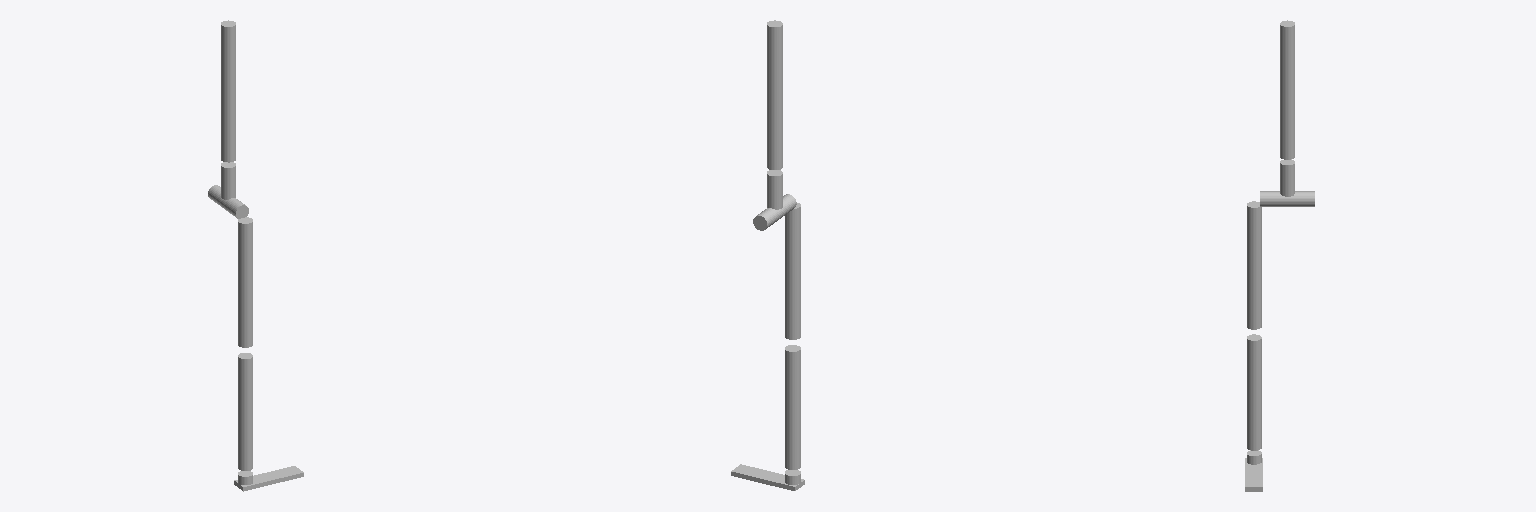
The robot description file, URDF, robot "hatlas":
<?xml version="1.0" ?>
<robot xmlns="http://drake.mit.edu"
 xmlns:xsi="http://www.w3.org/2001/XMLSchema-instance"
 xsi:schemaLocation="http://drake.mit.edu ../../../doc/drakeURDF.xsd" name="hatlas">
  <material name="LightGrey">
    <color rgba="0.8 0.8 0.8 1.0"/>
  </material>
  <material name="Grey">
    <color rgba="0.6 0.6 0.6 1.0"/>
  </material>
  <material name="DarkGrey">
    <color rgba="0.3 0.3 0.3 1.0"/>
  </material>
  <material name="Black">
    <color rgba="0.1 0.1 0.1 1.0"/>
  </material>
  <link name="base_link">
    <inertial>
      <origin rpy="0 0 0" xyz="0 0 0"/>
      <mass value="0.01"/>
      <inertia ixx="0.0001" ixy="0.0" ixz="0.0" iyy="0.0001" iyz="0.0" izz="0.0001"/>
    </inertial>
  </link>
  <link name="Back">
    <inertial>
      <mass value="0.98"/>
      <inertia ixx="0.0142307887763" ixy="0.0" ixz="0.0" iyy="0.0142307887763" iyz="0.0" izz="0.0232537942048"/>
    </inertial>
  </link>
  <link name="Pelvis-link1">
    <inertial>
      <mass value="2.85"/>
      <inertia ixx="0.0167937478046" ixy="0.0" ixz="0.0" iyy="0.0130953182366" iyz="0.0" izz="0.0188435137939"/>
    </inertial>
    <visual>
      <origin rpy="0 0 0" xyz="0 0 -0.076245974"/>
      <geometry>
        <cylinder length="0.112491948" radius="0.025"/>
      </geometry>
      <material name="LightGrey"/>
    </visual>
    <collision>
      <origin rpy="0 0 0" xyz="0 0 -0.076245974"/>
      <geometry>
        <cylinder length="0.152491948" radius="0.025"/>
      </geometry>
    </collision>
  </link>
  <link name="Pelvis-link2">
    <inertial>
      <mass value="2.85"/>
      <inertia ixx="0.0167937478046" ixy="0.0" ixz="0.0" iyy="0.0188435137939" iyz="0.0" izz="0.0130953182366"/>
    </inertial>
    <visual>
      <origin rpy="1.57079632679 0 0" xyz="0 0 0"/>
      <geometry>
        <cylinder length="0.17784564" radius="0.025"/>
      </geometry>
      <material name="LightGrey"/>
    </visual>
    <collision>
      <origin rpy="1.57079632679 0 0" xyz="0 0 0"/>
      <geometry>
        <cylinder length="0.21784564" radius="0.025"/>
      </geometry>
    </collision>
  </link>
  <link name="BackYaw_link">
    <inertial>
      <mass value="0.98"/>
      <inertia ixx="0.0168406694011" ixy="0.0" ixz="0.0" iyy="0.0168406694011" iyz="0.0" izz="0.0284735554544"/>
    </inertial>
  </link>
  <link name="BackPitch_link">
    <inertial>
      <mass value="0.98"/>
      <inertia ixx="0.0391167022824" ixy="0.0" ixz="0.0" iyy="0.0213060832327" iyz="0.0" izz="0.0230184023975"/>
    </inertial>
  </link>
  <link name="BackRoll_link">
    <inertial>
      <mass value="0.98"/>
      <inertia ixx="0.0391167022824" ixy="0.0" ixz="0.0" iyy="0.0213060832327" iyz="0.0" izz="0.0230184023975"/>
    </inertial>
  </link>
  <link name="Torso">
    <inertial>
      <mass value="15.347"/>
      <inertia ixx="0.612575540743" ixy="0.0" ixz="0.0" iyy="0.333657611605" iyz="0.0" izz="0.360472879178"/>
    </inertial>
    <visual>
      <origin rpy="0 0 0" xyz="0.0 0.0 0.23927308"/>
      <geometry>
        <cylinder length="0.47854616" radius="0.025"/>
      </geometry>
      <material name="LightGrey"/>
    </visual>
    <collision>
      <origin rpy="0 0 0" xyz="0.0 0.0 0.23927308"/>
      <geometry>
        <box size=" 0.178562 0.4999736 0.47854616"/>
      </geometry>
    </collision>
  </link>
  <link name="RHipYaw_link">
    <inertial>
      <mass value="3.38522222222"/>
      <inertia ixx="0.0670316913245" ixy="0.0" ixz="0.0" iyy="0.0670316913245" iyz="0.0" izz="0.00485710822221"/>
    </inertial>
  </link>
  <link name="RHipPitch_link">
    <inertial>
      <mass value="3.38522222222"/>
      <inertia ixx="0.0670316913245" ixy="0.0" ixz="0.0" iyy="0.0670316913245" iyz="0.0" izz="0.00485710822221"/>
    </inertial>
  </link>
  <link name="RHipRoll_link">
    <inertial>
      <mass value="3.38522222222"/>
      <inertia ixx="0.0670316913245" ixy="0.0" ixz="0.0" iyy="0.0670316913245" iyz="0.0" izz="0.00485710822221"/>
    </inertial>
    <visual>
      <origin rpy="0 0 0" xyz="0.0 0.0 -0.23927308"/>
      <geometry>
        <cylinder length="0.43854616" radius="0.025"/>
      </geometry>
      <material name="LightGrey"/>
    </visual>
    <collision>
      <origin rpy="0 0 0" xyz="0.0 0.0 -0.23927308"/>
      <geometry>
        <cylinder length="0.47854616" radius="0.025"/>
      </geometry>
    </collision>
  </link>
  <link name="RKneePitch_link">
    <inertial>
      <mass value="5.07783333333"/>
      <inertia ixx="0.0839686075882" ixy="0.0" ixz="0.0" iyy="0.0839686075882" iyz="0.0" izz="0.00728566233332"/>
    </inertial>
    <visual>
      <origin rpy="0 0 0" xyz="0 0 -0.21784564"/>
      <geometry>
        <cylinder length="0.39569128" radius="0.025"/>
      </geometry>
      <material name="LightGrey"/>
    </visual>
    <collision>
      <origin rpy="0 0 0" xyz="0 0 -0.21784564"/>
      <geometry>
        <cylinder length="0.43569128" radius="0.025"/>
      </geometry>
    </collision>
  </link>
  <link name="RAnklePitch_link">
    <inertial>
      <mass value="1.0"/>
      <inertia ixx="0.000313145101483" ixy="0.0" ixz="0.0" iyy="0.000313145101483" iyz="0.0" izz="0.0003125"/>
    </inertial>
    <visual>
      <origin rpy="0 0 0" xyz="0 0 -0.021695283"/>
      <geometry>
        <cylinder length="0.043390566" radius="0.025"/>
      </geometry>
      <material name="LightGrey"/>
    </visual>
    <collision>
      <origin rpy="0 0 0" xyz="0 0 -0.021695283"/>
      <geometry>
        <cylinder length="0.043390566" radius="0.025"/>
      </geometry>
    </collision>
  </link>
  <link name="RAnkle">
    <inertial>
      <mass value="1.0"/>
      <inertia ixx="0.000313145101483" ixy="0.0" ixz="0.0" iyy="0.000313145101483" iyz="0.0" izz="0.0003125"/>
    </inertial>
  </link>
  <link name="RFoot">
    <inertial>
      <mass value="2.0"/>
      <inertia ixx="0.0006375" ixy="0.0" ixz="0.0" iyy="0.00509955043915" iyz="0.0" izz="0.00566205043915"/>
    </inertial>
    <visual>
      <origin rpy="0 0 0" xyz="0.087138256 0 0.0075"/>
      <geometry>
        <box size="0.224276512 0.06 0.015"/>
      </geometry>
      <material name="LightGrey"/>
    </visual>
    <collision>
      <origin rpy="0 0 0" xyz="0.087138256 0 0.0075"/>
      <geometry>
        <box size="0.224276512 0.06 0.015"/>
      </geometry>
    </collision>
  </link>
  <joint name="base_joint" type="fixed">
    <child link="Back"/>
    <parent link="base_link"/>
    <origin rpy="0 0 0" xyz="0 0 0"/>
  </joint>
  <joint name="BackYaw" type="revolute">
    <parent link="Back"/>
    <child link="BackYaw_link"/>
    <origin rpy="0 0 0" xyz="0 0 0.0"/>
    <axis xyz="0 0 1"/>
    <limit effort="110" lower="-0.78539816295" upper="0.78539816295" velocity="3"/>
    <dynamics damping="1" friction="10"/>
  </joint>
  <transmission name="BackYaw_trans" type="SimpleTransmission">
    <actuator name="BackYawTorque"/>
    <joint name="BackYaw"/>
    <mechanicalReduction>1</mechanicalReduction>
  </transmission>
  <joint name="BackPitch" type="revolute">
    <parent link="BackYaw_link"/>
    <child link="BackPitch_link"/>
    <origin rpy="0 0 0" xyz="0 0 0"/>
    <axis xyz="0 1 0"/>
    <limit effort="180" lower="-0." upper="0.43633231275" velocity="3"/>
    <dynamics damping="1" friction="10"/>
  </joint>
  <transmission name="BackPitch_trans" type="SimpleTransmission">
    <actuator name="BackPitchTorque"/>
    <joint name="BackPitch"/>
    <mechanicalReduction>1</mechanicalReduction>
  </transmission>
  <joint name="BackRoll" type="revolute">
    <parent link="BackPitch_link"/>
    <child link="BackRoll_link"/>
    <origin rpy="0 0 0" xyz="0 0 0"/>
    <axis xyz="1 0 0"/>
    <limit effort="100" lower="-0.6981317004" upper="0.6981317004" velocity="3"/>
    <dynamics damping="1" friction="10"/>
  </joint>
  <transmission name="BackRoll_trans" type="SimpleTransmission">
    <actuator name="BackRollTorque"/>
    <joint name="BackRoll"/>
    <mechanicalReduction>1</mechanicalReduction>
  </transmission>
  <joint name="Torso_joint" type="fixed">
    <child link="Torso"/>
    <parent link="BackRoll_link"/>
    <origin rpy="0 0 0" xyz="0 0 0"/>
  </joint>
  <joint name="Back_Pelvis_Joint" type="fixed">
    <parent link="Back"/>
    <child link="Pelvis-link1"/>
    <origin rpy="0 0 0" xyz="0 0 0"/>
  </joint>
  <joint name="Mid_Pelvis_Joint" type="fixed">
    <parent link="Pelvis-link1"/>
    <child link="Pelvis-link2"/>
    <origin rpy="0 0 0" xyz="0 0 -0.152491948"/>
  </joint>
  <joint name="RHipYaw" type="revolute">
    <parent link="Pelvis-link2"/>
    <child link="RHipYaw_link"/>
    <origin rpy="0 0 0" xyz="0 -0.10892282 0"/>
    <axis xyz="0 0 1"/>
    <limit effort="110" lower="-1.2217304757" upper="0.1745329251" velocity="3"/>
    <dynamics damping="1" friction="10"/>
  </joint>
  <transmission name="RHipYaw_trans" type="SimpleTransmission">
    <actuator name="RHipYawTorque"/>
    <joint name="RHipYaw"/>
    <mechanicalReduction>1</mechanicalReduction>
  </transmission>
  <joint name="RHipPitch" type="revolute">
    <parent link="RHipYaw_link"/>
    <child link="RHipPitch_link"/>
    <origin rpy="0 0 0" xyz="0 0 0"/>
    <axis xyz="0 1 0"/>
    <limit effort="260" lower="-1.745329251" upper="0.3490658502" velocity="3"/>
    <dynamics damping="1" friction="10"/>
  </joint>
  <transmission name="RHipPitch_trans" type="SimpleTransmission">
    <actuator name="RHipPitchTorque"/>
    <joint name="RHipPitch"/>
    <mechanicalReduction>1</mechanicalReduction>
  </transmission>
  <joint name="RHipRoll" type="revolute">
    <parent link="RHipPitch_link"/>
    <child link="RHipRoll_link"/>
    <origin rpy="0 0 0" xyz="0 0 0"/>
    <axis xyz="1 0 0"/>
    <limit effort="180" lower="-0.3490658502" upper="0.3490658502" velocity="3"/>
    <dynamics damping="1" friction="10"/>
  </joint>
  <transmission name="RHipRoll_trans" type="SimpleTransmission">
    <actuator name="RHipRollTorque"/>
    <joint name="RHipRoll"/>
    <mechanicalReduction>1</mechanicalReduction>
  </transmission>
  <joint name="RKneePitch" type="revolute">
    <parent link="RHipRoll_link"/>
    <child link="RKneePitch_link"/>
    <origin rpy="0 0 0" xyz="0 0 -0.47854616"/>
    <axis xyz="0 1 0"/>
    <limit effort="220" lower="0.0" upper="2.35619448885" velocity="3"/>
    <dynamics damping="1" friction="10"/>
  </joint>
  <transmission name="RKneePitch_trans" type="SimpleTransmission">
    <actuator name="RKneePitchTorque"/>
    <joint name="RKneePitch"/>
    <mechanicalReduction>1</mechanicalReduction>
  </transmission>
  <joint name="RAnklePitch" type="revolute">
    <parent link="RKneePitch_link"/>
    <child link="RAnklePitch_link"/>
    <origin rpy="0 0 0" xyz="0 0 -0.43569128"/>
    <axis xyz="0 1 0"/>
    <limit effort="220" lower="-0.6981317004" upper="0.6981317004" velocity="3"/>
    <dynamics damping="1" friction="10"/>
  </joint>
  <transmission name="RAnklePitch_trans" type="SimpleTransmission">
    <actuator name="RAnklePitchTorque"/>
    <joint name="RAnklePitch"/>
    <mechanicalReduction>1</mechanicalReduction>
  </transmission>
  <joint name="RAnkle_joint" type="fixed">
    <parent link="RAnklePitch_link"/>
    <child link="RAnkle"/>
    <origin xyz="0 0 0"/>
  </joint>
  <joint name="RFoot_joint" type="fixed">
    <parent link="RAnklePitch_link"/>
    <child link="RFoot"/>
    <origin xyz="0 0 -0.04519"/>
  </joint>
</robot>

--- Render facts (derived) ---
The picture shows the robot from 3 angles, left to right: view 1: azimuth 30°, elevation 25°; view 2: azimuth 150°, elevation 25°; view 3: azimuth 270°, elevation 25°; orthographic projection.
Model hatlas with 15 links and 14 joints (8 revolute, 6 fixed), rooted at base_link, posed all joints at 0.
Visible links, largest first — view 1: Torso, RHipRoll_link, RKneePitch_link, RFoot, Pelvis-link2, Pelvis-link1; view 2: Torso, RHipRoll_link, RKneePitch_link, RFoot, Pelvis-link2, Pelvis-link1; view 3: Torso, RHipRoll_link, RKneePitch_link, Pelvis-link2, Pelvis-link1.
Link boxes in pixels (bbox=[...]): Torso: bbox=[221, 20, 235, 162]; RHipRoll_link: bbox=[238, 217, 252, 347]; RKneePitch_link: bbox=[238, 353, 252, 470]; RFoot: bbox=[234, 466, 303, 491]; Pelvis-link2: bbox=[208, 185, 248, 218]; Pelvis-link1: bbox=[221, 162, 235, 199]; Torso: bbox=[767, 20, 782, 169]; RHipRoll_link: bbox=[785, 203, 800, 339]; RKneePitch_link: bbox=[785, 345, 800, 469]; RFoot: bbox=[731, 464, 804, 490]; Pelvis-link2: bbox=[753, 194, 796, 230]; Pelvis-link1: bbox=[767, 170, 782, 209]; Torso: bbox=[1280, 20, 1294, 159]; RHipRoll_link: bbox=[1247, 201, 1261, 329]; RKneePitch_link: bbox=[1247, 334, 1261, 450]; Pelvis-link2: bbox=[1260, 191, 1314, 206]; Pelvis-link1: bbox=[1280, 159, 1294, 196].
Size in the robot's own frame: 0.2243 by 0.2278 by 1.59 metres.
Geometry: primitives only (box / cylinder / sphere), no mesh files.
